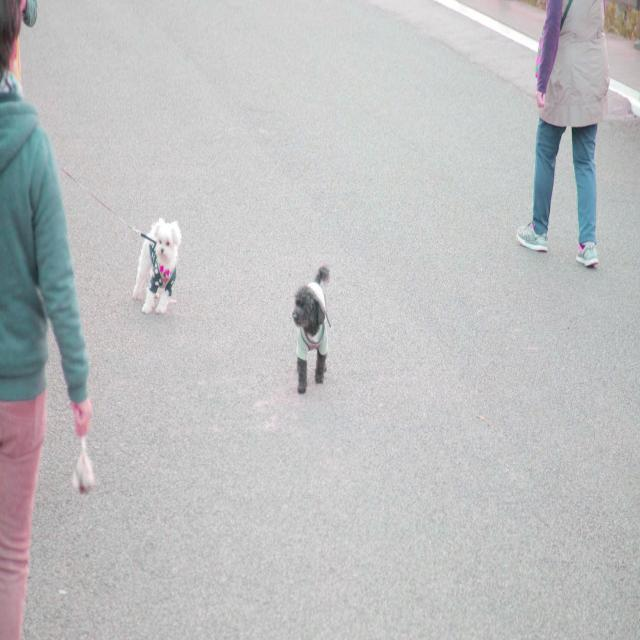Dog: (134, 216, 182, 314)
Unleashed_Dog: (293, 80, 599, 392)
